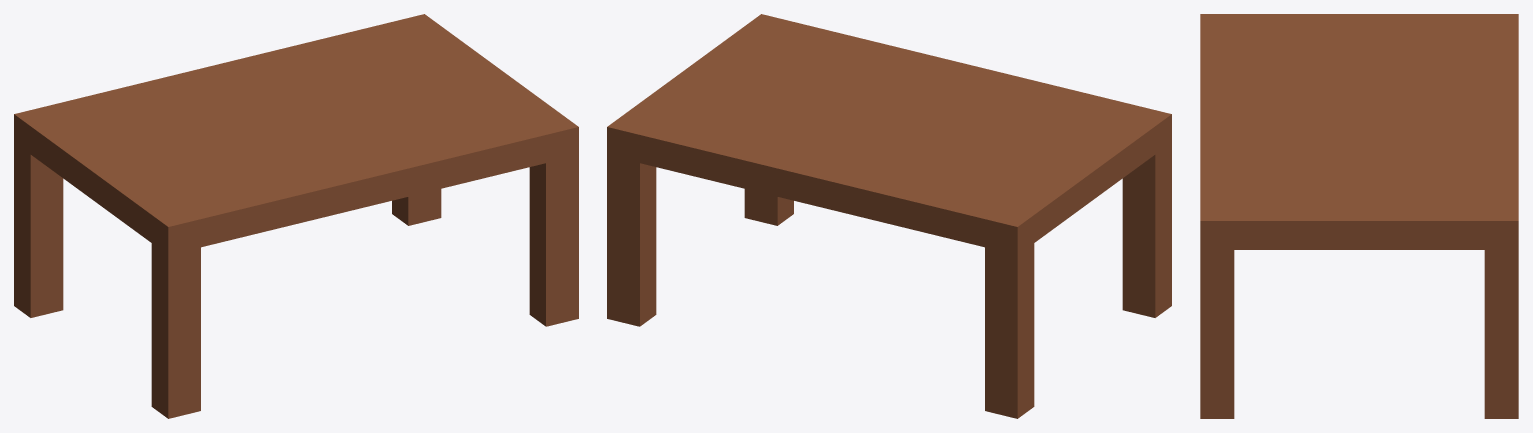
File: Mesa.fbx
3 views of the same model, side by side, from view 1: azimuth 30°, elevation 25°; view 2: azimuth 150°, elevation 25°; view 3: azimuth 270°, elevation 25° (orthographic). The views are drawn at different scales.
Visible parts, largest first — view 1: Cube; view 2: Cube; view 3: Cube.
Part boxes in pixels (x1,y1,x2,y2): Cube: [14, 14, 578, 418]; Cube: [607, 14, 1171, 418]; Cube: [1200, 14, 1518, 418].
Bounding box in the file's own units: 643 × 287 × 419.
